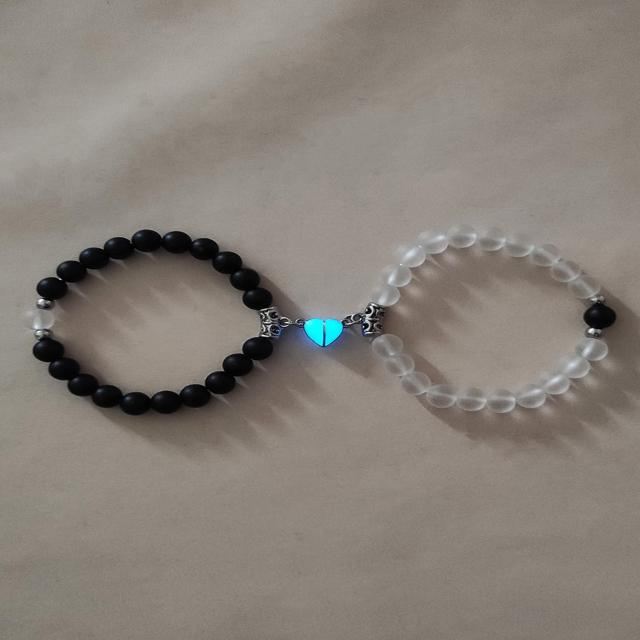bracelet: (0, 163, 331, 508), (296, 154, 640, 475)
